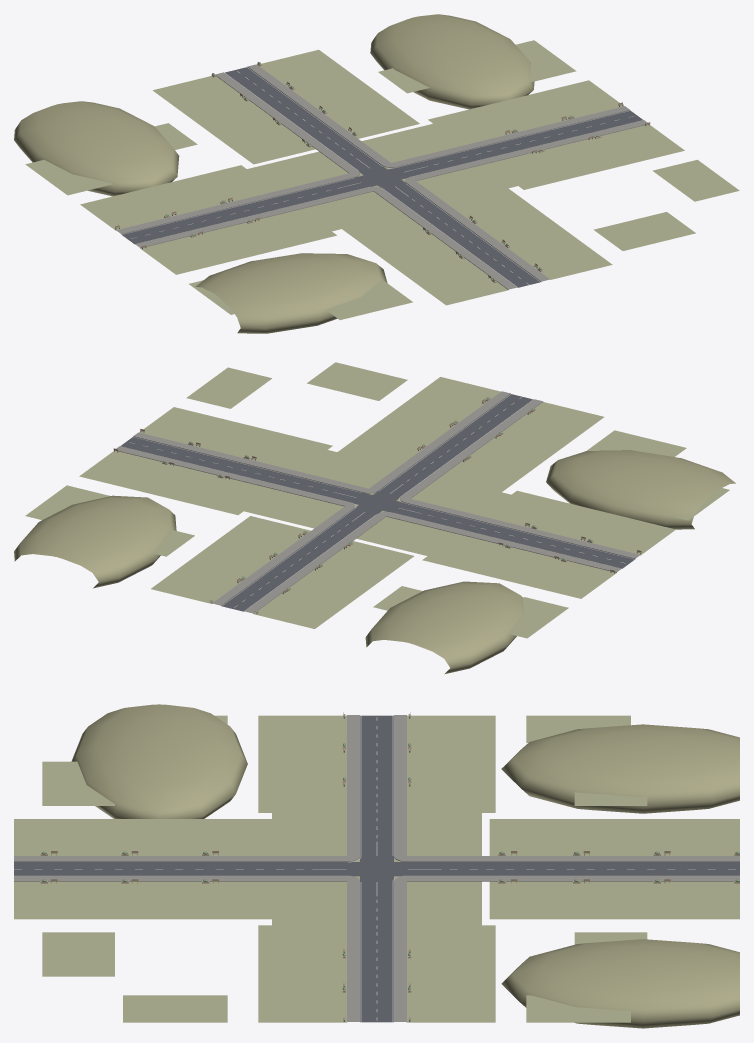
3 renders of one model, top to bottom at view 1: azimuth 30°, elevation 25°; view 2: azimuth 150°, elevation 25°; view 3: azimuth 270°, elevation 25°, orthographic. The views are drawn at different scales.
Visible parts, largest first — view 1: static; view 2: static; view 3: static.
Part boxes in pixels (left/top/right/bottom): static: left=14, top=14, right=739, bottom=333; static: left=14, top=362, right=735, bottom=674; static: left=14, top=704, right=739, bottom=1028.
Size of what is drawn, in the model's own units: 180 by 14.08 by 180.
